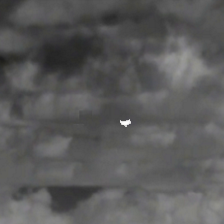Target: (120, 118, 132, 128)
